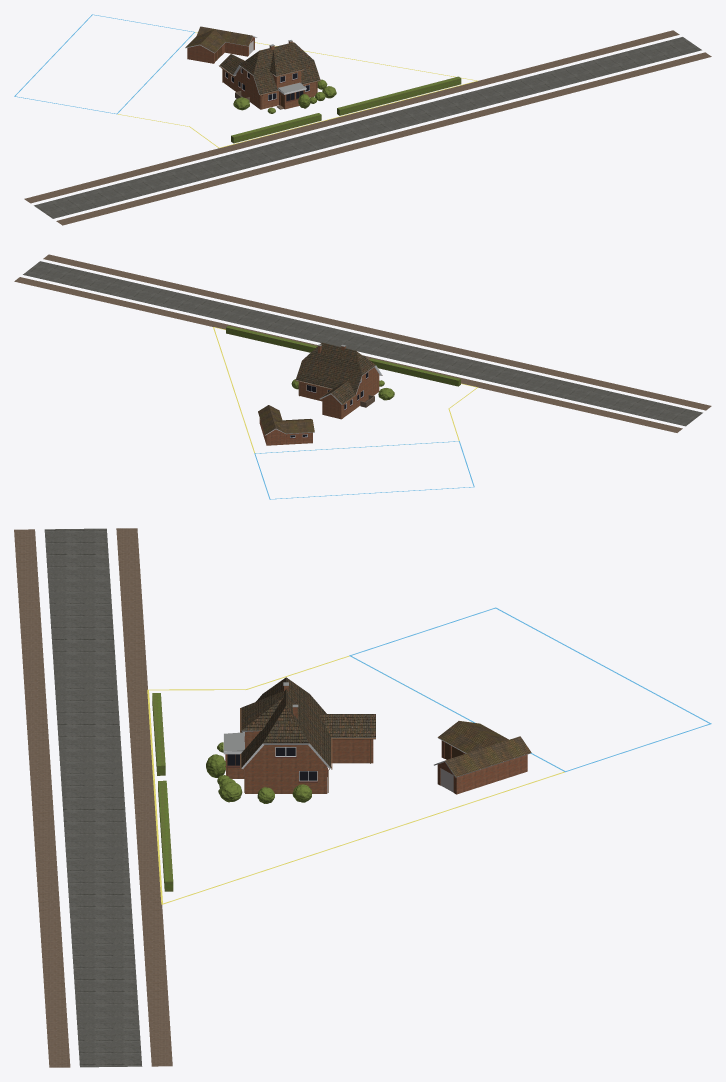
Rendered from bestand_nr12_v2.glb.
The picture shows the model from 3 angles, top to bottom: view 1: azimuth 30°, elevation 25°; view 2: azimuth 150°, elevation 25°; view 3: azimuth 270°, elevation 25°; orthographic projection. The views are drawn at different scales.
Parts seen in each view (by area): view 1: Strasse, Stufe, Dach_Haupt, Hecke, Waende_Haupt, NG_Dach_T, NG_Riegel_Waende; view 2: Strasse, Stufe, Dach_Haupt, Hecke, Waende_Haupt, NG_Dach_T, NG_Riegel_Waende; view 3: Strasse, Stufe, Dach_Haupt, Waende_Haupt, Hecke, NG_Dach_T, NG_Riegel_Waende.
Boxes of the visible parts, x1,y1,x2,y2 form: Strasse: [34, 37, 701, 218]; Stufe: [24, 30, 711, 225]; Dach_Haupt: [14, 14, 478, 148]; Hecke: [231, 76, 461, 143]; Waende_Haupt: [223, 41, 317, 109]; NG_Dach_T: [185, 26, 252, 52]; NG_Riegel_Waende: [187, 37, 254, 63]; Strasse: [23, 261, 702, 426]; Stufe: [14, 254, 711, 432]; Dach_Haupt: [213, 327, 477, 499]; Hecke: [226, 325, 460, 400]; Waende_Haupt: [298, 346, 379, 419]; NG_Dach_T: [258, 405, 314, 434]; NG_Riegel_Waende: [259, 418, 312, 445]; Strasse: [44, 528, 142, 1067]; Stufe: [14, 528, 172, 1067]; Dach_Haupt: [147, 607, 711, 904]; Waende_Haupt: [226, 686, 373, 793]; Hecke: [152, 693, 312, 891]; NG_Dach_T: [438, 721, 531, 776]; NG_Riegel_Waende: [437, 740, 527, 794].
Size of what is drawn, in the model's own units: 133 by 9.68 by 72.89.
Materials: 9 (9 with a texture image).
